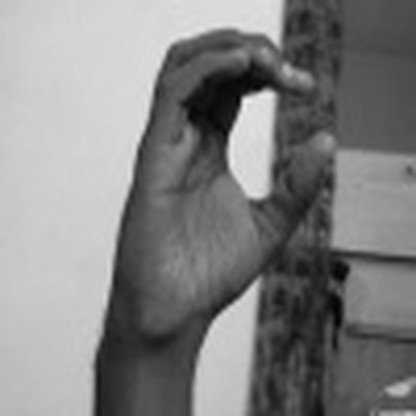c: (117, 18, 337, 322)
